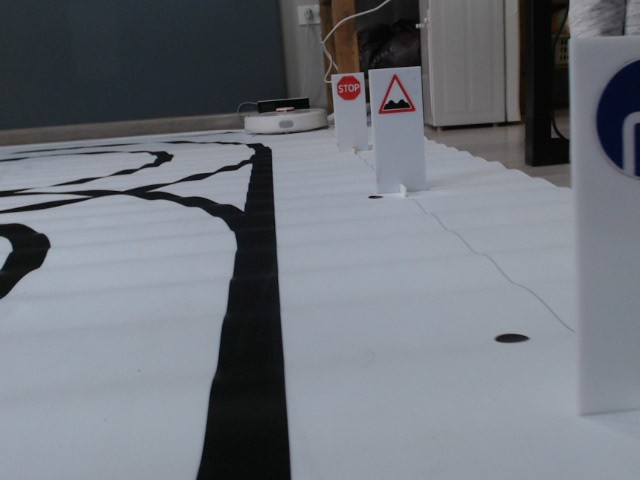Nerov: (379, 74, 416, 115)
Stop: (336, 75, 361, 101)
